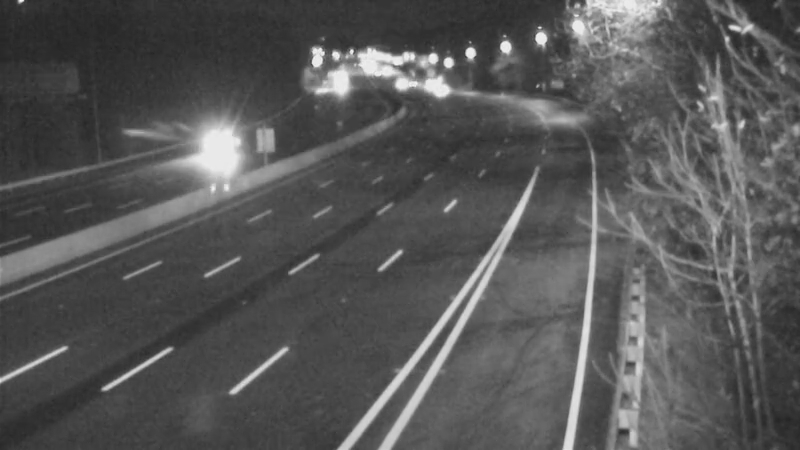vehicle: (402, 58, 452, 108), (418, 62, 468, 112), (193, 121, 243, 171)
